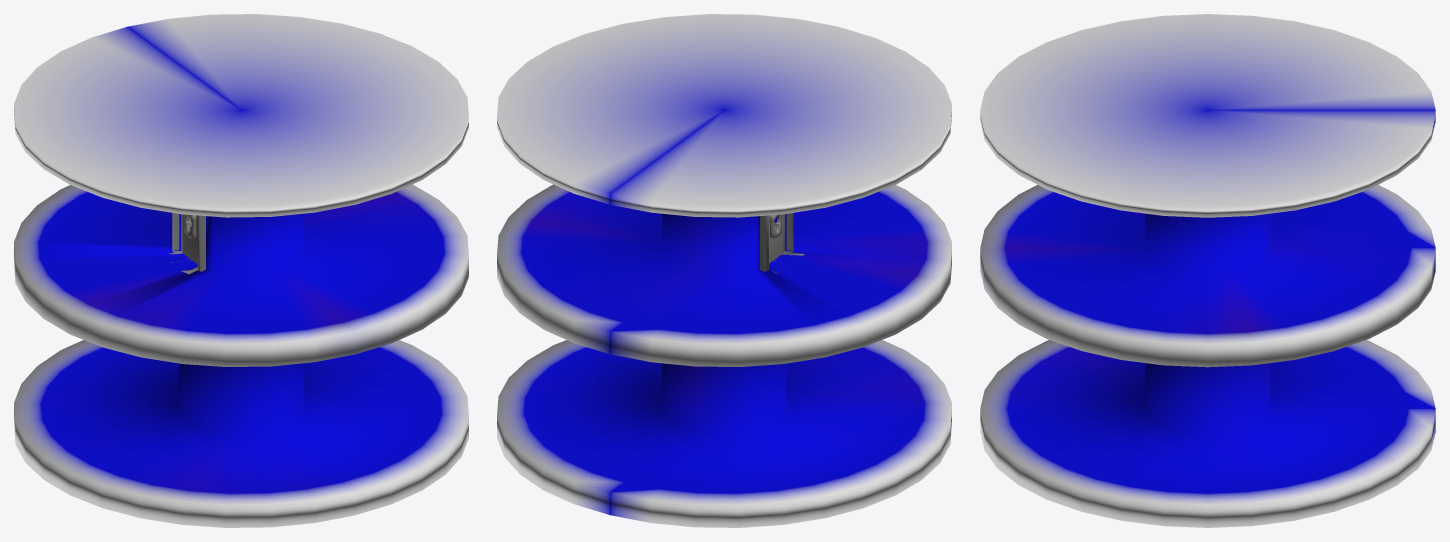
File: House.fbx
3 renders of one model, left to right at view 1: azimuth 30°, elevation 25°; view 2: azimuth 150°, elevation 25°; view 3: azimuth 270°, elevation 25°, orthographic.
Visible parts, largest first — view 1: PM3D_Cylinder3D1, PM3D_Cylinder3D11; view 2: PM3D_Cylinder3D1, PM3D_Cylinder3D11; view 3: PM3D_Cylinder3D1.
Part boxes in pixels (x1,y1,x2,y2): PM3D_Cylinder3D1: (14, 14, 468, 527); PM3D_Cylinder3D11: (169, 213, 205, 274); PM3D_Cylinder3D1: (497, 14, 951, 527); PM3D_Cylinder3D11: (760, 213, 804, 273); PM3D_Cylinder3D1: (980, 14, 1435, 527).
Bounding box in the file's own units: 2 × 1.56 × 2.
